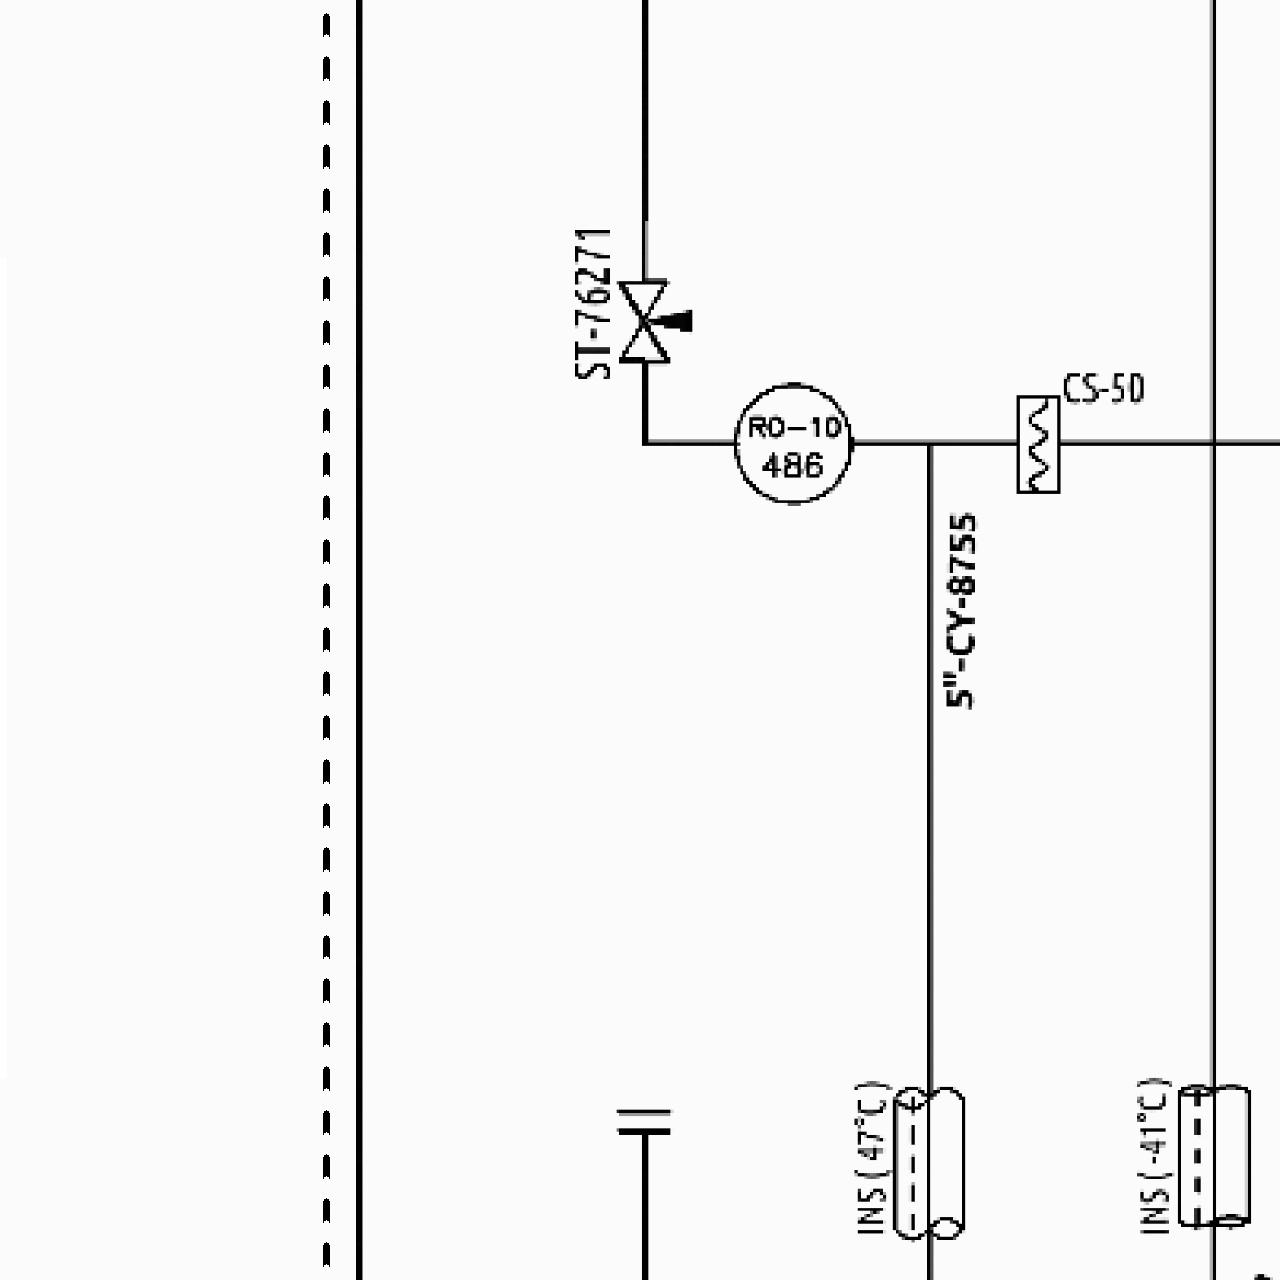Control-Panel: (727, 377, 857, 508)
